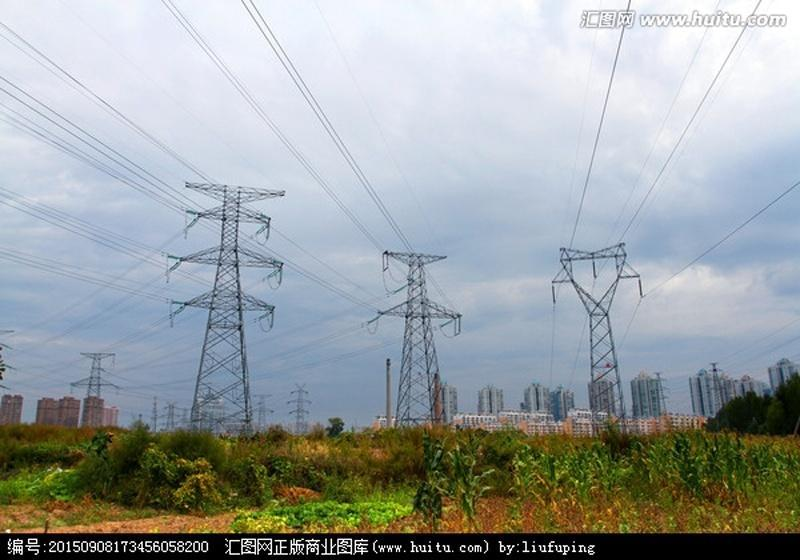power_tower: (165, 181, 286, 433), (361, 249, 462, 424), (552, 241, 644, 432), (72, 347, 118, 428), (288, 381, 316, 434), (705, 360, 728, 413), (250, 389, 274, 433), (648, 370, 670, 415), (162, 399, 178, 432), (145, 395, 159, 430)
